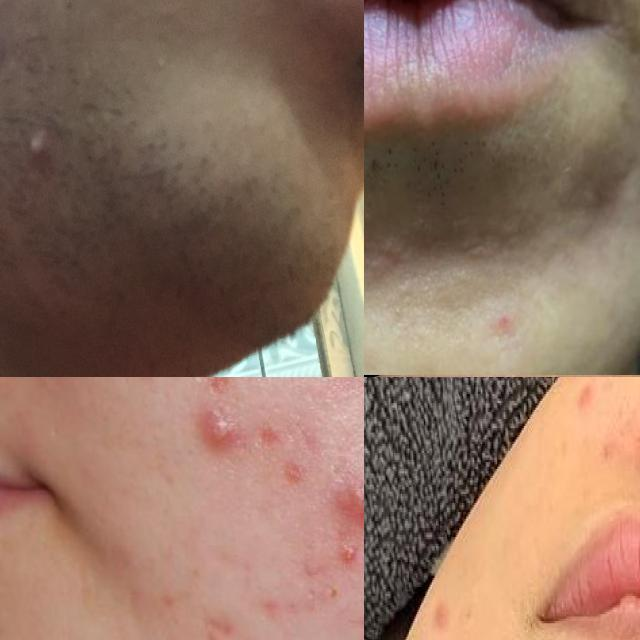acne_scars: (192, 602, 247, 640), (431, 580, 453, 640)
papule: (568, 377, 597, 439), (343, 477, 364, 538), (364, 226, 380, 292)
pustule: (179, 398, 269, 468)
